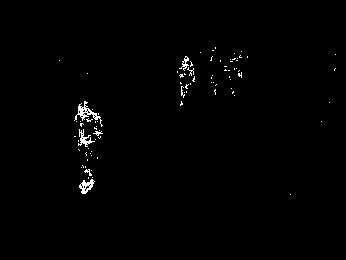person: (68, 100, 104, 196), (175, 52, 195, 106)
